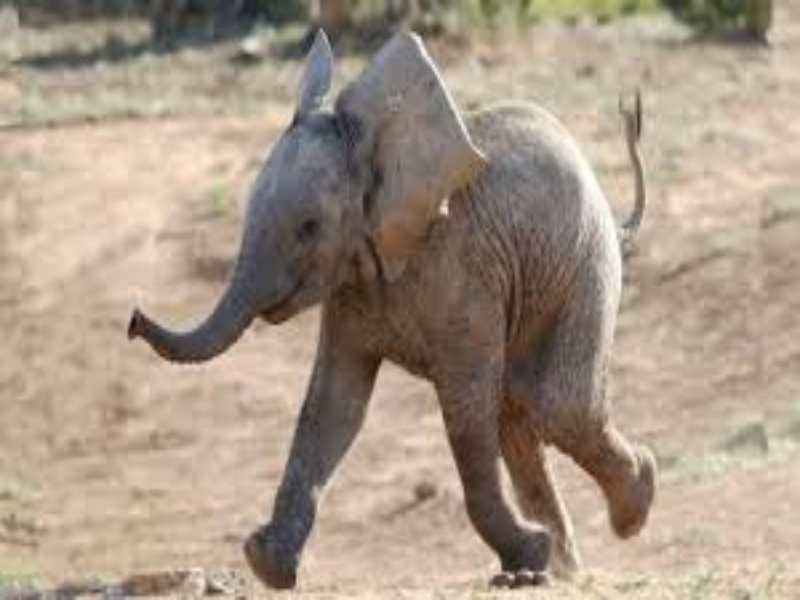elephant: (111, 27, 662, 582)
